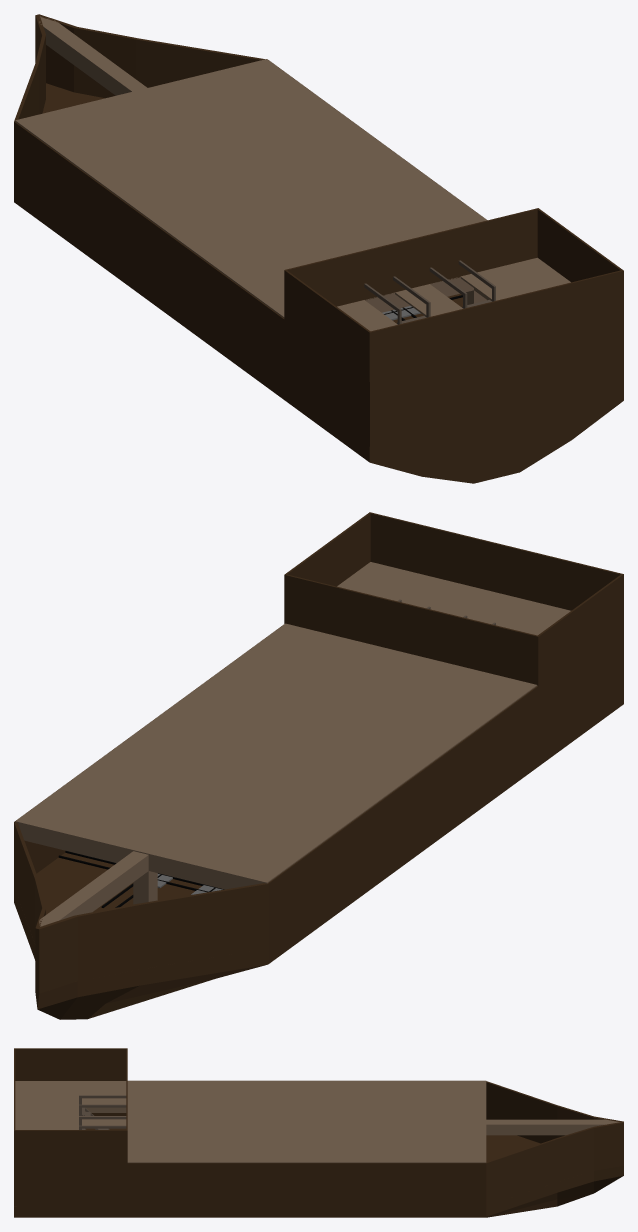
Rendered from barco.fbx.
3 renders of one model, top to bottom at view 1: azimuth 30°, elevation 25°; view 2: azimuth 150°, elevation 25°; view 3: azimuth 270°, elevation 25°, orthographic. The views are drawn at different scales.
Parts seen in each view (by area): view 1: Cube.013, Cube, Cube.014, Fundo Casco, Cube.003, Cube.012, Cube.001; view 2: Cube.013, Cube, Cube.014, Fundo Casco, Cube.003; view 3: Cube.013, Cube, Fundo Casco, Cube.014, Cube.003, Cube.012.
Boxes of the visible parts, <box> form: Cube.013: <box>15,59,570,331</box>; Cube: <box>14,14,623,446</box>; Cube.014: <box>284,208,623,381</box>; Fundo Casco: <box>14,83,623,483</box>; Cube.003: <box>39,16,147,95</box>; Cube.012: <box>364,260,495,324</box>; Cube.001: <box>366,277,489,312</box>; Cube.013: <box>15,562,570,883</box>; Cube: <box>14,624,623,993</box>; Cube.014: <box>284,512,623,685</box>; Fundo Casco: <box>14,688,623,1019</box>; Cube.003: <box>18,823,263,926</box>; Cube.013: <box>15,1080,486,1162</box>; Cube: <box>14,1081,623,1206</box>; Fundo Casco: <box>14,1128,623,1217</box>; Cube.014: <box>14,1048,127,1163</box>; Cube.003: <box>486,1119,619,1135</box>; Cube.012: <box>79,1095,126,1129</box>.
Size of the model in its own units: 3300 by 2188 by 10331.
